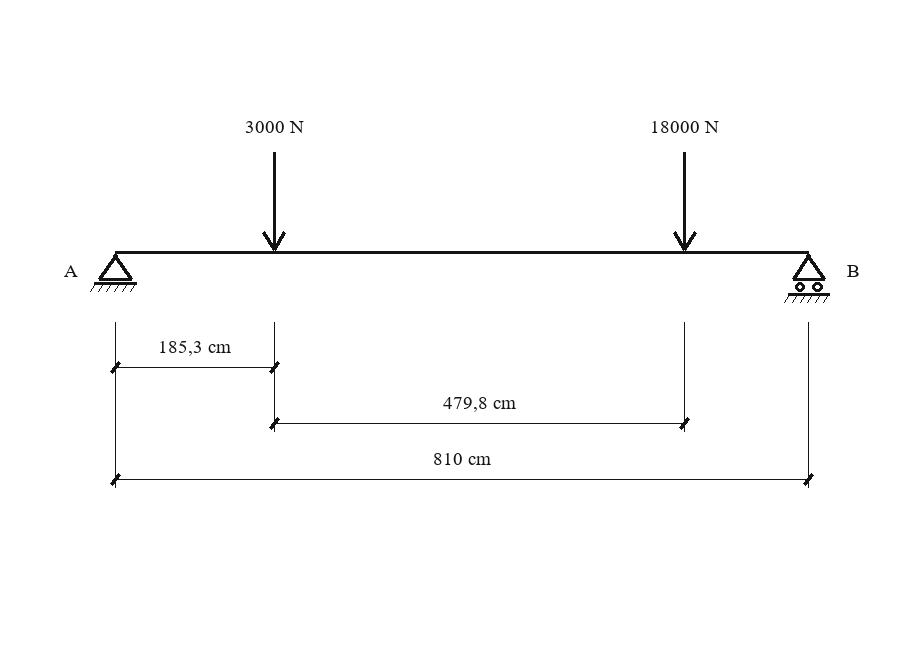pin_support: (90, 254, 137, 292)
point_load: (262, 152, 286, 251), (673, 152, 697, 251)
roller_support: (784, 254, 830, 303)
